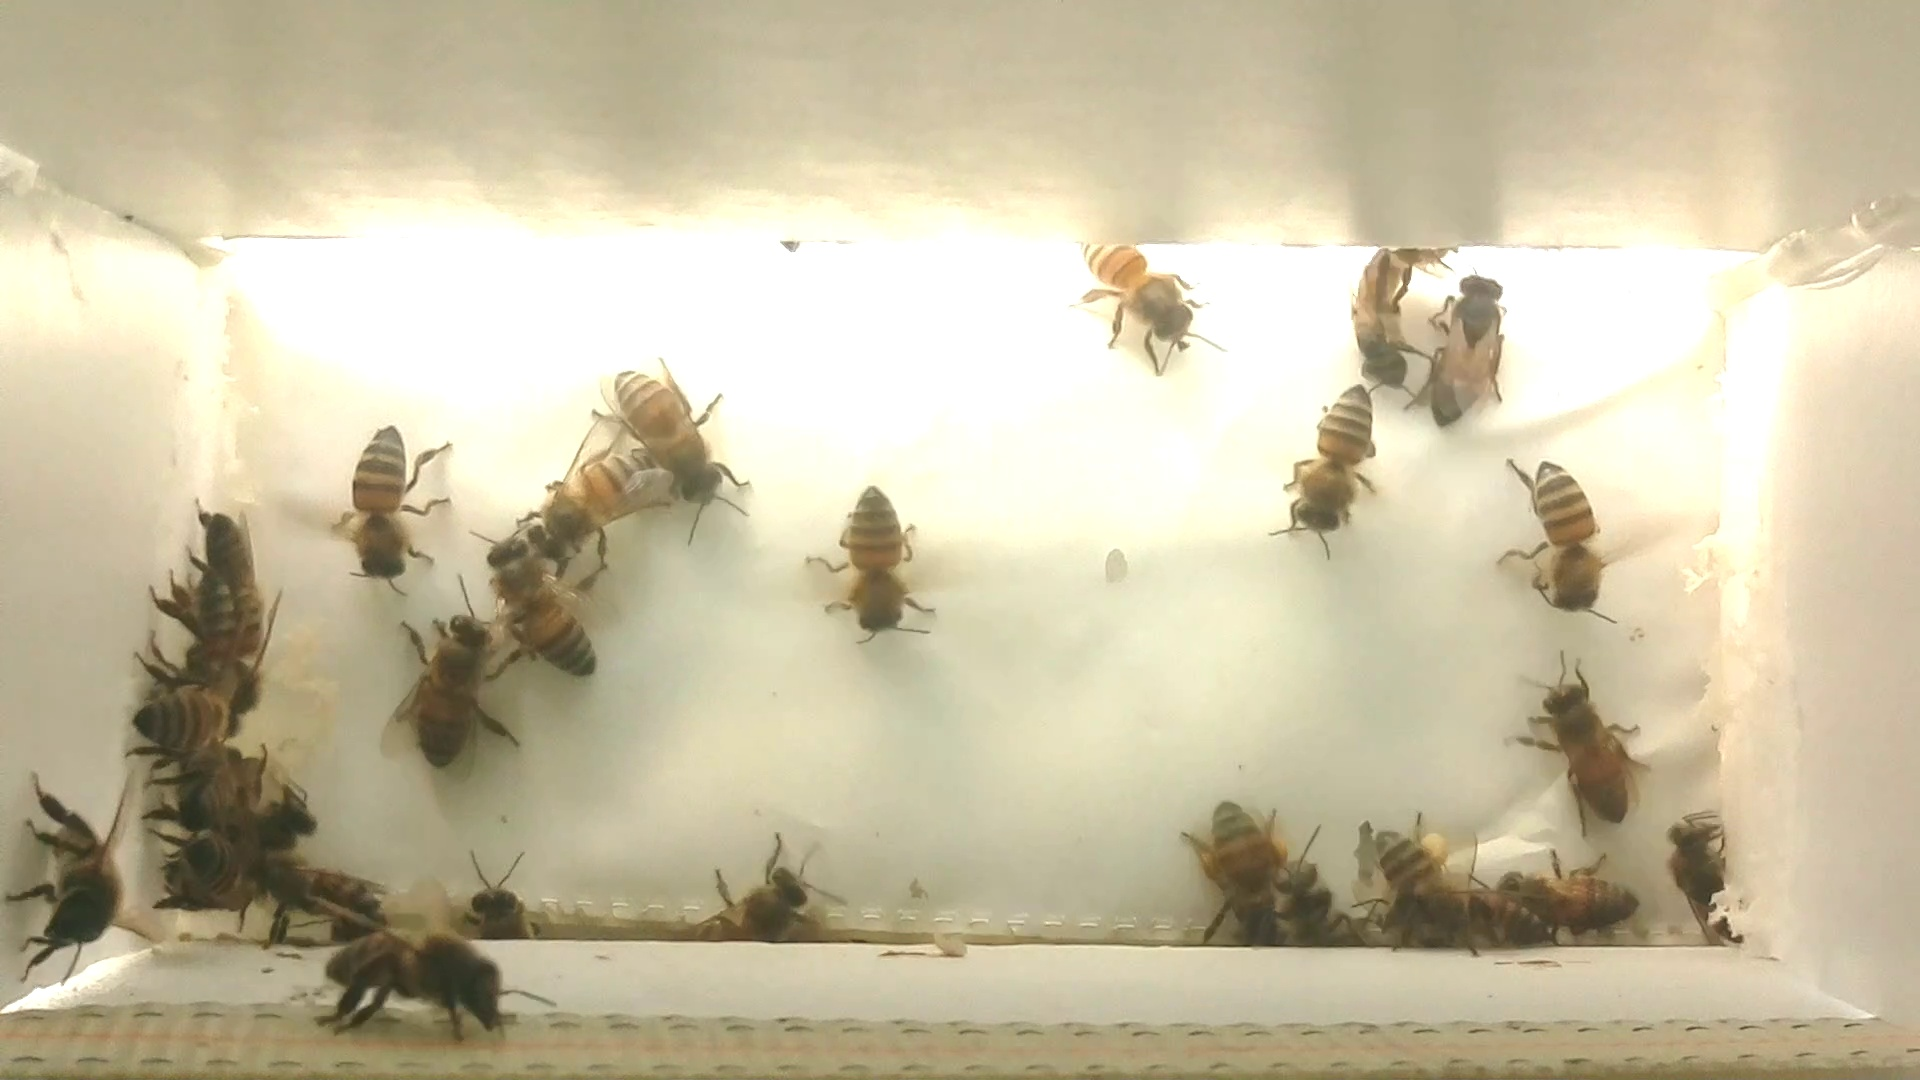bee: (3, 765, 175, 992), (291, 911, 547, 1050), (1493, 646, 1669, 844), (588, 359, 762, 545), (295, 406, 458, 597), (793, 465, 957, 653), (372, 593, 526, 789), (462, 520, 615, 696), (1494, 444, 1633, 636), (1267, 359, 1393, 568), (1058, 231, 1222, 384), (1162, 793, 1299, 959), (508, 439, 673, 570), (1412, 264, 1526, 438), (671, 844, 839, 961), (1338, 808, 1468, 956), (177, 500, 286, 671), (113, 636, 247, 765), (1371, 870, 1549, 967), (1478, 858, 1658, 953), (1652, 800, 1754, 960), (243, 845, 404, 940), (1331, 244, 1418, 404), (1269, 847, 1371, 967), (458, 853, 567, 955), (223, 778, 326, 862), (153, 745, 252, 829), (158, 824, 248, 911)
